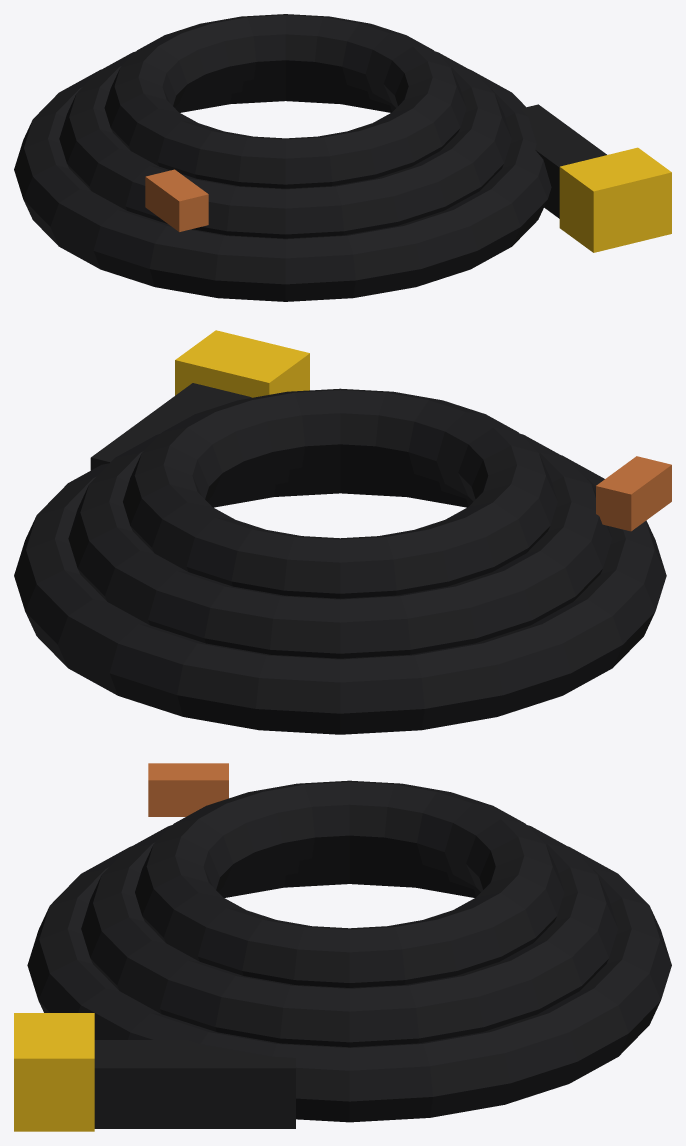
Rendered from rink_power_cable.glb.
3 views of the same model, one above another, from view 1: azimuth 30°, elevation 25°; view 2: azimuth 150°, elevation 25°; view 3: azimuth 270°, elevation 25° (orthographic). The views are drawn at different scales.
Visible parts, largest first — view 1: coil_0_cable_black, coil_2_cable_black, coil_1_cable_black, clamp_cable_clamp, tail_cable_black, copper_cable_copper; view 2: coil_0_cable_black, coil_2_cable_black, coil_1_cable_black, clamp_cable_clamp, copper_cable_copper, tail_cable_black; view 3: coil_2_cable_black, coil_0_cable_black, coil_1_cable_black, tail_cable_black, clamp_cable_clamp, copper_cable_copper.
Boxes of the visible parts, <box> form: coil_0_cable_black: <box>14,69,551,301</box>; coil_2_cable_black: <box>104,14,466,188</box>; coil_1_cable_black: <box>59,51,511,238</box>; clamp_cable_clamp: <box>559,147,671,252</box>; tail_cable_black: <box>521,104,606,218</box>; copper_cable_copper: <box>145,169,208,231</box>; coil_0_cable_black: <box>14,455,666,734</box>; coil_2_cable_black: <box>123,388,557,598</box>; coil_1_cable_black: <box>68,433,612,658</box>; clamp_cable_clamp: <box>175,330,309,397</box>; copper_cable_copper: <box>596,456,671,531</box>; tail_cable_black: <box>90,383,251,470</box>; coil_2_cable_black: <box>135,780,564,987</box>; coil_0_cable_black: <box>27,846,671,1122</box>; coil_1_cable_black: <box>81,825,618,1047</box>; tail_cable_black: <box>94,1040,295,1128</box>; clamp_cable_clamp: <box>14,1013,94,1131</box>; copper_cable_copper: <box>148,763,228,816</box>.
Size of the model in its own units: 0.49 by 0.12 by 0.49.
